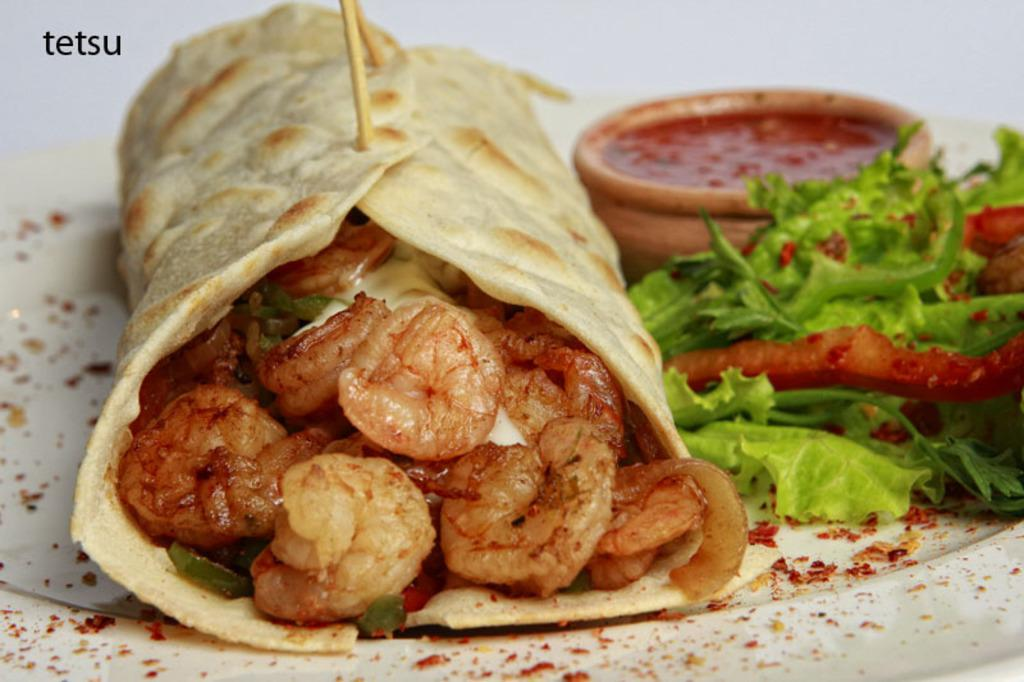Shrimp: (122, 386, 333, 548), (434, 412, 612, 604), (248, 453, 438, 619), (337, 290, 504, 458), (588, 453, 744, 603), (251, 288, 390, 421), (508, 328, 625, 458), (278, 225, 393, 296)
